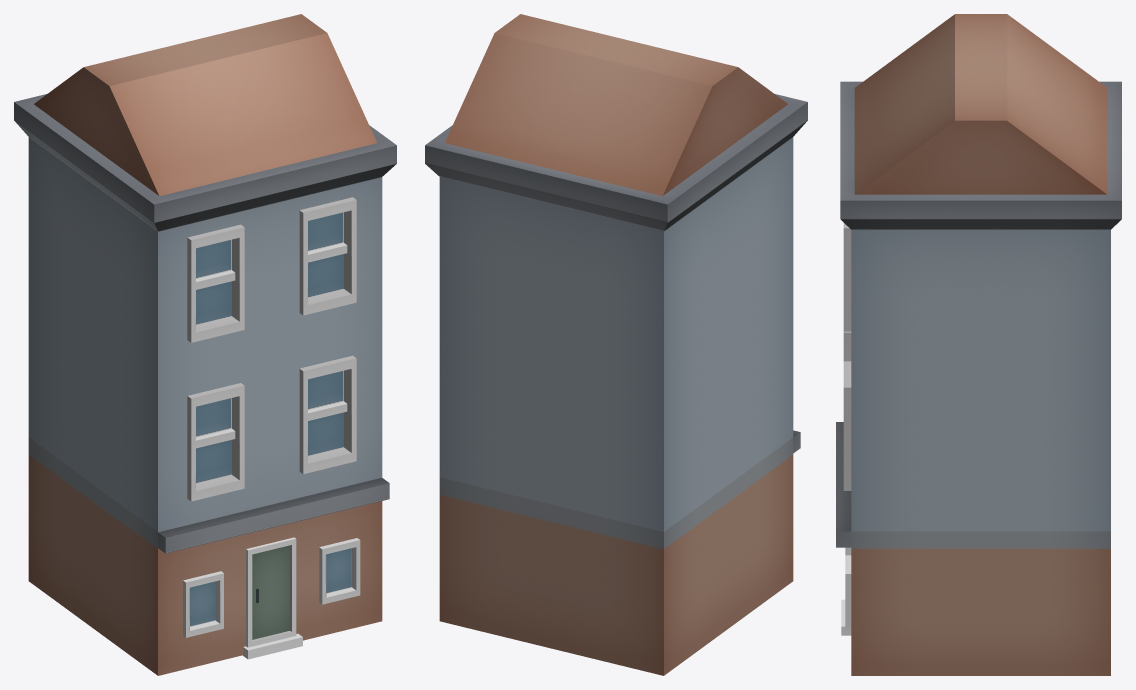
File: House_03_UV_Color.fbx
3 renders of one model, left to right at view 1: azimuth 30°, elevation 25°; view 2: azimuth 150°, elevation 25°; view 3: azimuth 270°, elevation 25°, orthographic.
Parts seen in each view (by area): view 1: House_03_UV_Color; view 2: House_03_UV_Color; view 3: House_03_UV_Color.
Boxes of the visible parts, left/top/right/bottom form: House_03_UV_Color: left=14, top=14, right=396, bottom=675; House_03_UV_Color: left=425, top=14, right=807, bottom=675; House_03_UV_Color: left=836, top=14, right=1121, bottom=675.
Size of the model in its own units: 1195 by 2597 by 1213.
